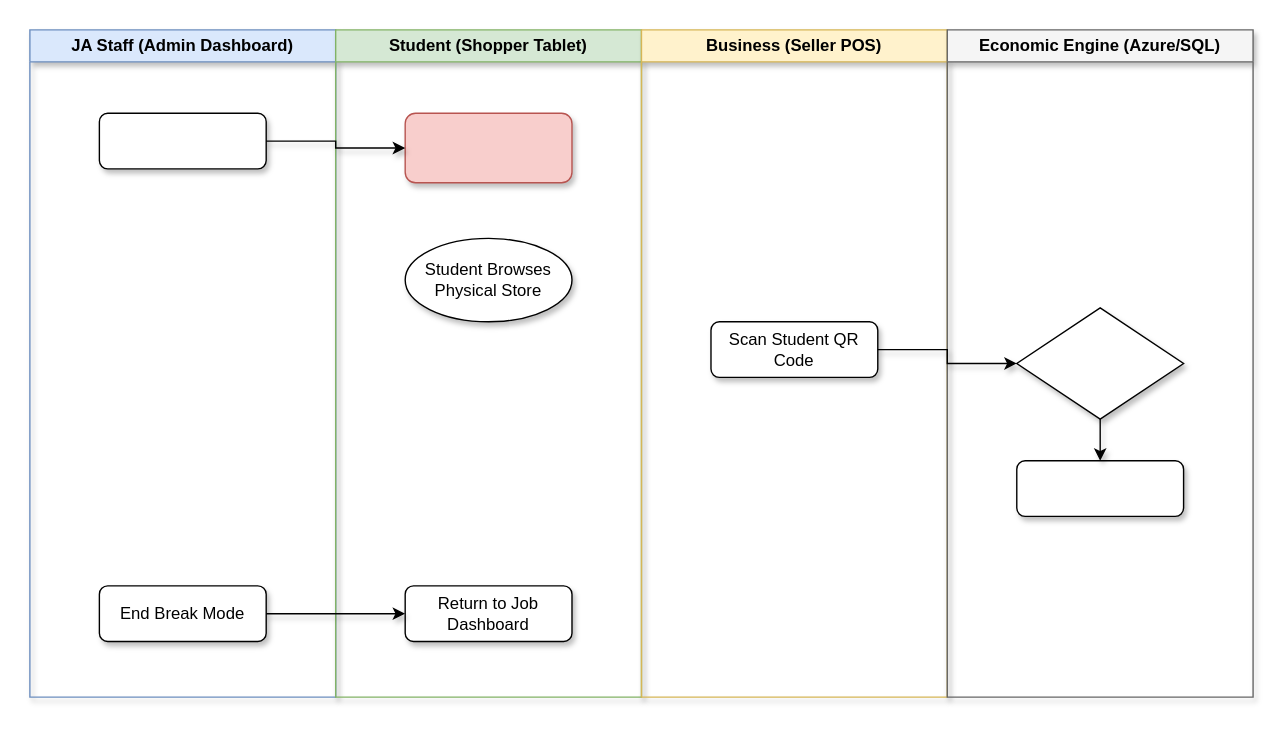
This 1286x731 diagram has some shape labels left out. The shapes that lost their labels are listed below. From the top down, each one's centre as x and y in pixels, then its label:
At [183,142]: "Trigger 'Red Break' Command".
At [489,149]: "UI Switches to Red + Shows QR Code".
At [1101,365]: "Verify Funds & Record Sale".
At [1101,490]: "Update Personal & Business Ledgers".
